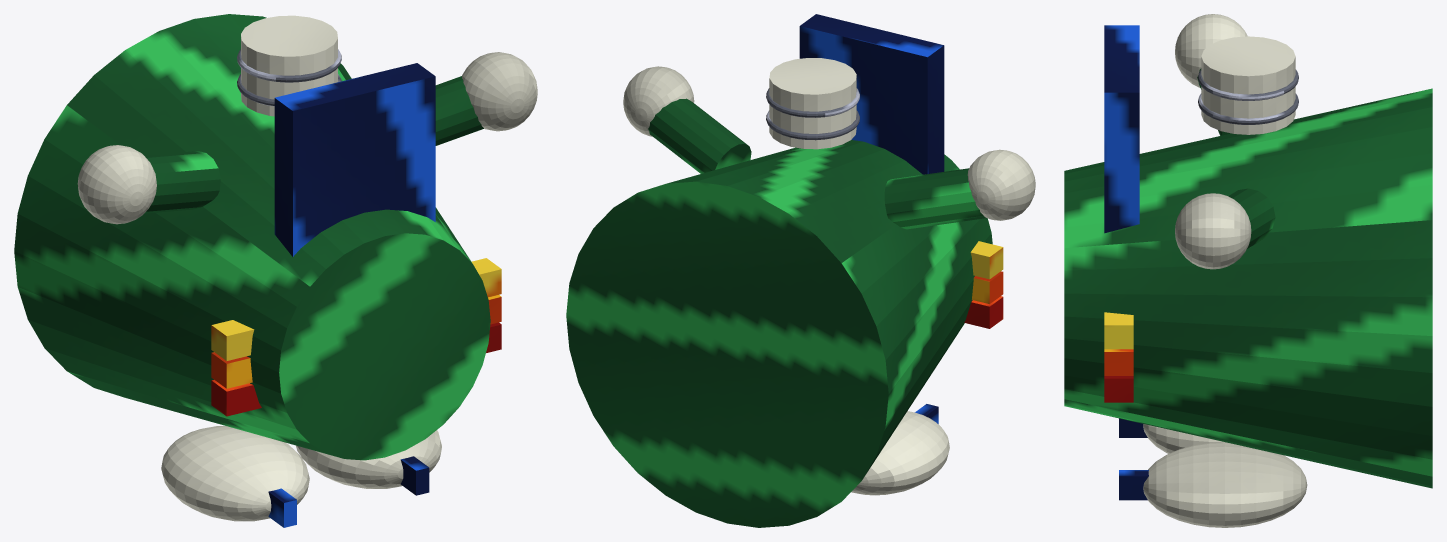
The model's file is finado_cuerpo.obj.
3 views of the same model, side by side, from view 1: azimuth 30°, elevation 25°; view 2: azimuth 150°, elevation 25°; view 3: azimuth 270°, elevation 25° (orthographic). The views are drawn at different scales.
Parts seen in each view (by area): view 1: finado_cuerpo; view 2: finado_cuerpo; view 3: finado_cuerpo.
Part boxes in pixels (x1=…): finado_cuerpo: x1=14, y1=14, x2=537, y2=527; finado_cuerpo: x1=566, y1=14, x2=1035, y2=527; finado_cuerpo: x1=1064, y1=14, x2=1432, y2=527.
Bounding box in the file's own units: 1.7 × 1.61 × 1.25.
7 materials, 7 textured.
